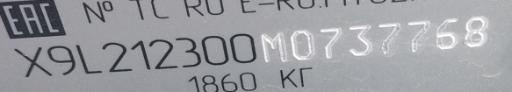letter: (14, 39, 56, 82), (98, 35, 136, 75), (72, 40, 108, 78), (172, 31, 206, 70), (256, 29, 292, 65), (145, 34, 179, 69), (44, 41, 78, 75), (463, 14, 493, 51), (344, 22, 376, 56), (401, 16, 431, 52), (316, 23, 346, 59), (228, 29, 258, 65), (199, 32, 229, 68), (432, 16, 462, 51), (288, 27, 318, 61), (127, 36, 155, 72), (377, 20, 405, 55)
